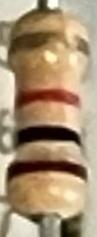Black: (16, 129, 81, 146)
Brown: (7, 158, 88, 180)
Red: (15, 90, 81, 108)
Side-Gold: (12, 36, 89, 54)
